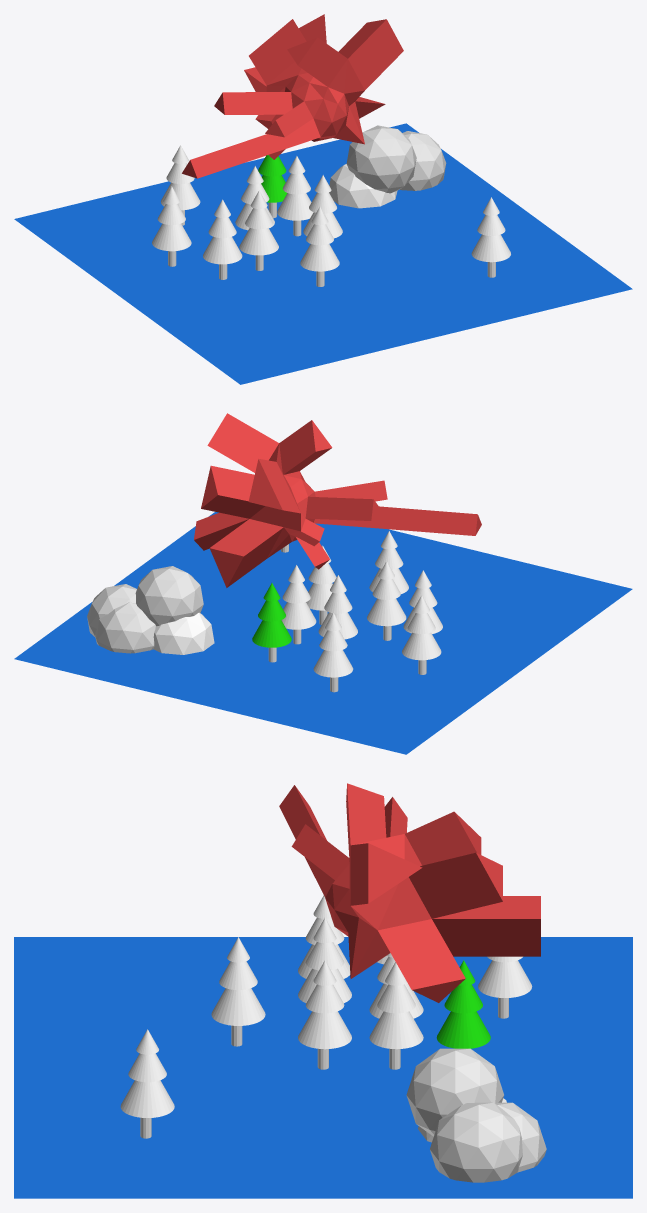
3 views of the same model, one above another, from view 1: azimuth 30°, elevation 25°; view 2: azimuth 150°, elevation 25°; view 3: azimuth 270°, elevation 25° (orthographic). The views are drawn at different scales.
Visible parts, largest first — view 1: Plane; view 2: Plane; view 3: Plane.
Part boxes in pixels (x1,y1,x2,y2): Plane: (14,14,632,384); Plane: (14,413,632,754); Plane: (14,783,632,1198).
Bounding box in the file's own units: 22.85 × 13.48 × 22.85.
